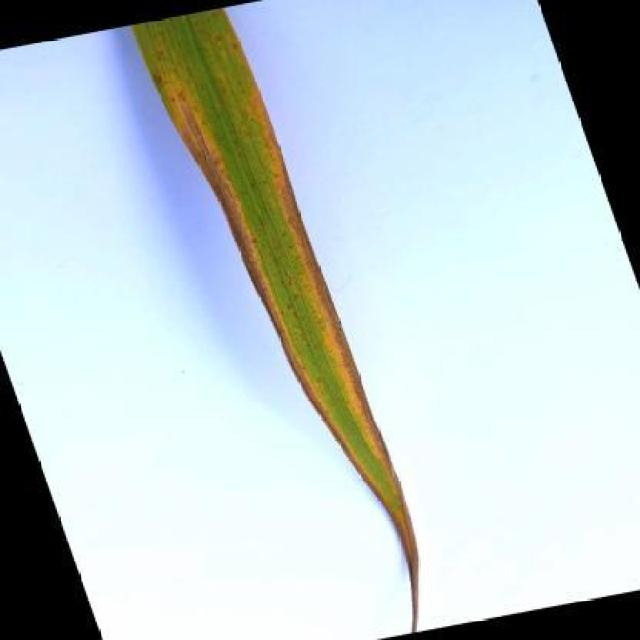Rice False Smut: (131, 12, 420, 633)
